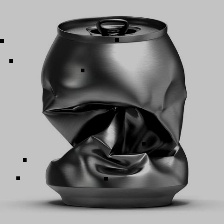can: (33, 12, 196, 212)
